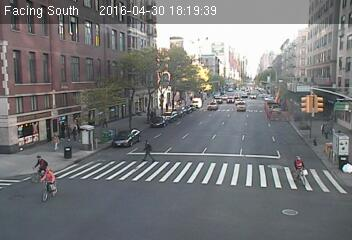neg: (32, 166, 61, 204), (282, 151, 310, 188), (28, 149, 53, 183), (321, 133, 341, 161), (62, 12, 81, 37), (251, 90, 267, 112), (182, 91, 197, 112), (225, 42, 239, 61), (285, 29, 298, 47), (285, 95, 298, 112), (243, 2, 256, 19), (194, 32, 206, 48), (247, 56, 257, 69), (269, 76, 278, 89), (145, 37, 154, 49)
pos: (137, 136, 158, 164), (50, 132, 64, 152), (98, 112, 110, 128), (70, 127, 81, 142)
